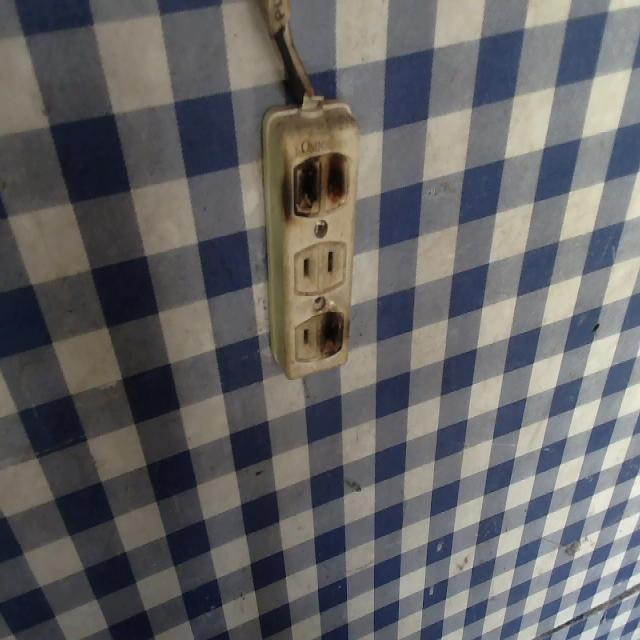-: (274, 144, 356, 220), (314, 304, 347, 367)
